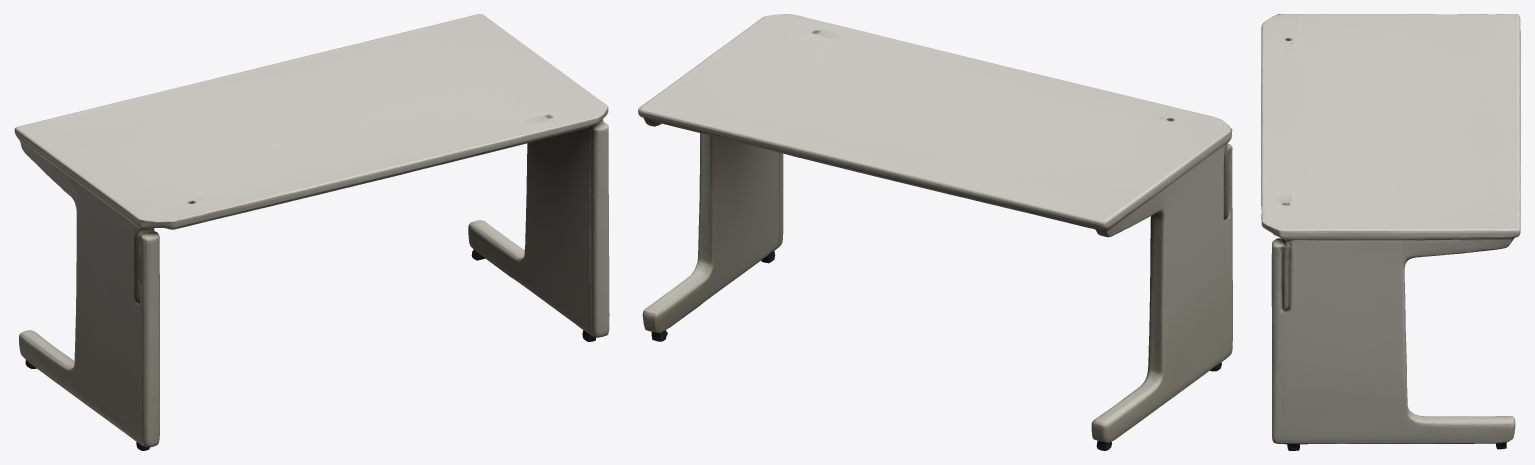
The picture shows the model from 3 angles, left to right: view 1: azimuth 30°, elevation 25°; view 2: azimuth 150°, elevation 25°; view 3: azimuth 270°, elevation 25°; orthographic projection. The views are drawn at different scales.
Visible parts, largest first — view 1: world; view 2: world; view 3: world.
Part boxes in pixels (left/top/right/bottom): world: left=14, top=14, right=609, bottom=450; world: left=638, top=14, right=1232, bottom=450; world: left=1261, top=14, right=1520, bottom=450.
Bounding box in the file's own units: 1 × 0.4842 × 0.5061.
Materials: 1 (1 with a texture image).
